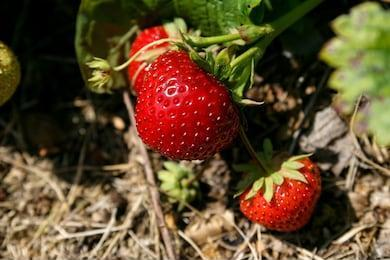Fresa: (130, 43, 251, 165), (235, 144, 326, 238)
